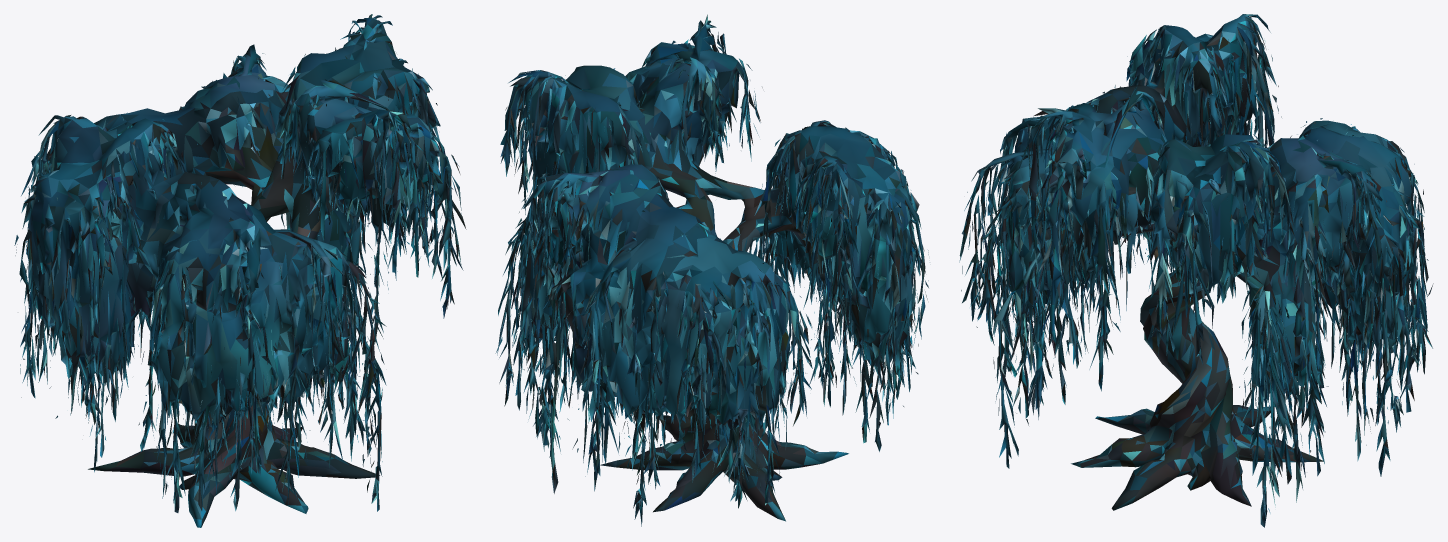
The model's file is SauceLloron.fbx.
3 views of the same model, side by side, from view 1: azimuth 30°, elevation 25°; view 2: azimuth 150°, elevation 25°; view 3: azimuth 270°, elevation 25° (orthographic). The views are drawn at different scales.
Visible parts, largest first — view 1: tripo_node_7f7854f5; view 2: tripo_node_7f7854f5; view 3: tripo_node_7f7854f5.
Boxes of the visible parts, <box> form: tripo_node_7f7854f5: <box>14,14,466,527</box>; tripo_node_7f7854f5: <box>495,14,928,526</box>; tripo_node_7f7854f5: <box>959,14,1433,527</box>.
Size of the model in its own units: 0.9995 by 0.9185 by 0.9837.
Materials: 1 (1 with a texture image).
